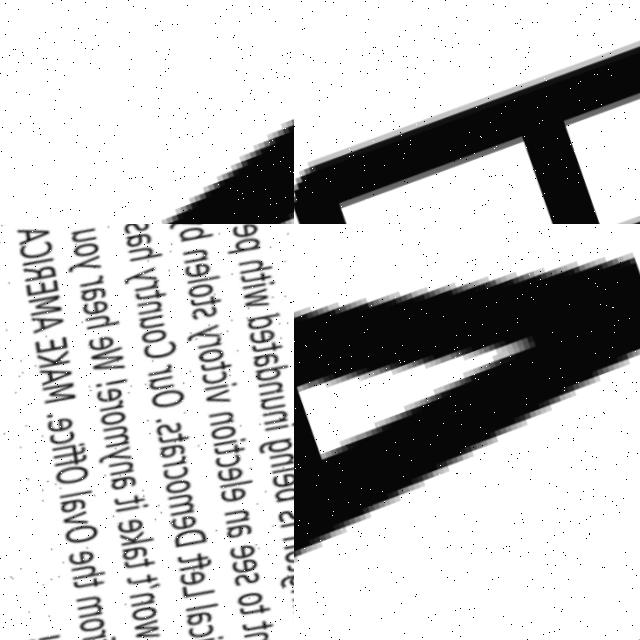9: (294, 0, 640, 224)
A: (294, 224, 640, 639)
B: (274, 474, 294, 506)
E: (274, 462, 294, 490)
G: (259, 425, 294, 455), (282, 560, 294, 589)
I: (262, 410, 294, 437), (272, 451, 294, 476), (282, 508, 294, 531)
N: (270, 439, 294, 468), (281, 521, 294, 550)
O: (287, 538, 294, 561)
S: (278, 496, 294, 522)
T: (0, 0, 294, 224)
